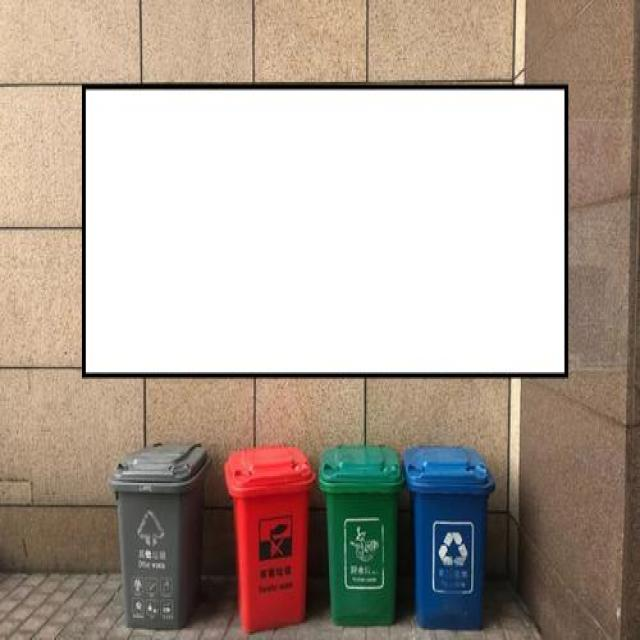garbage_bin: (107, 440, 210, 628), (223, 444, 315, 631), (402, 444, 494, 626), (318, 442, 404, 626)
